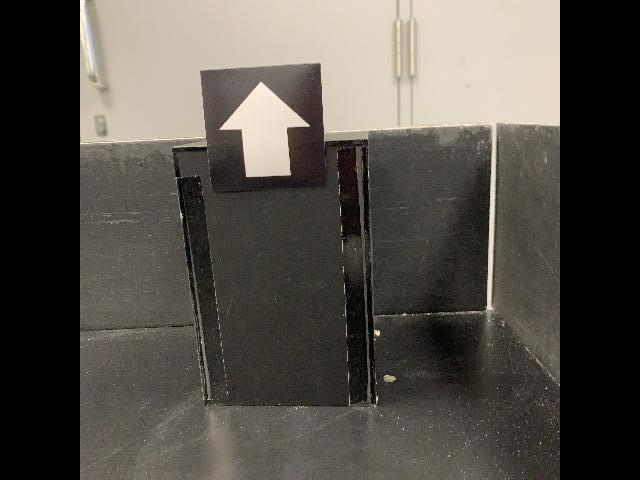up: (198, 62, 327, 194)
